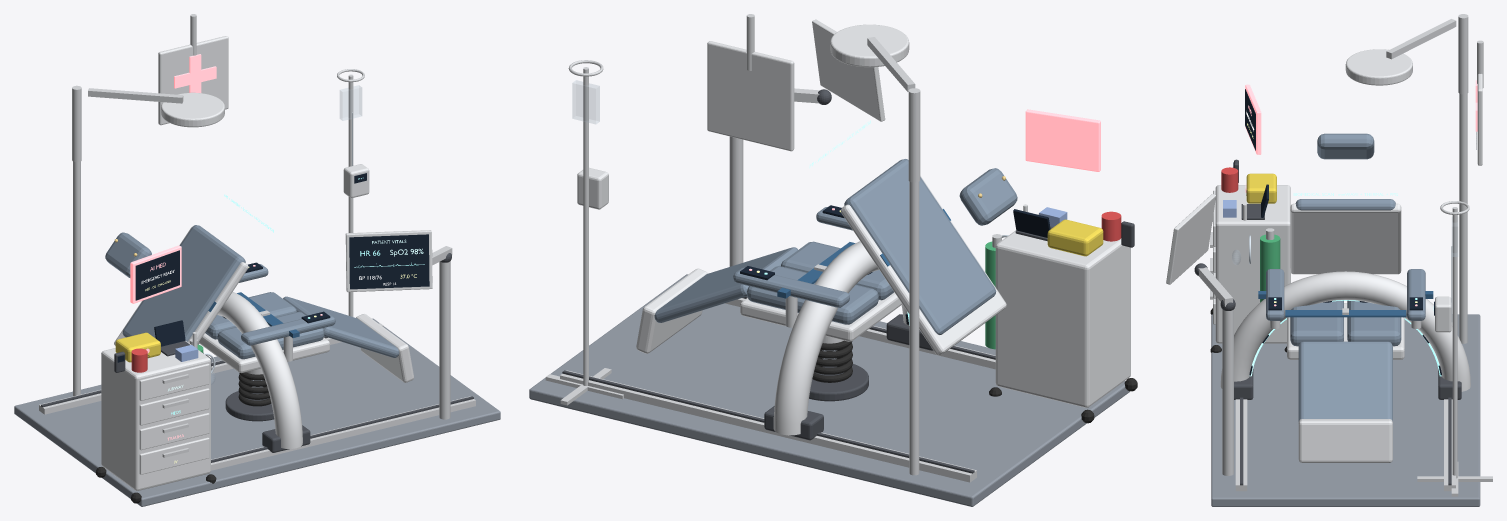
Rendered from medical_scanner.glb.
The picture shows the model from 3 angles, left to right: view 1: azimuth 30°, elevation 25°; view 2: azimuth 150°, elevation 25°; view 3: azimuth 270°, elevation 25°; orthographic projection. The views are drawn at different scales.
Visible parts, largest first — view 1: Base_Plate, Med_Cart, Backrest_Cushion, Vitals_Monitor_Panel, Scanner_Arch, Bay_Sign, Arch_Rail, Legrest, Monitor_Post, Light_Post, Exam_Light_Head, Emergency_Display_Panel (+24 smaller); view 2: Base_Plate, Med_Cart, Backrest_Cushion, Bay_Sign, Scanner_Arch, Arch_Rail.001, Emergency_Display_Bezel, Backrest_Shell, Vitals_Monitor_Bezel, Light_Post, Legrest, Exam_Light_Head (+20 smaller); view 3: Base_Plate, Legrest, Backrest_Shell, Scanner_Arch, Med_Cart, Footplate, Vitals_Monitor_Bezel, Light_Post, Monitor_Post, Exam_Light_Head, Seat_Cushion_R, Seat_Cushion_L (+21 smaller).
Boxes of the visible parts, x1,y1,x2,y2 form: Base_Plate: (14,318,500,506); Med_Cart: (101,340,210,490); Backrest_Cushion: (122,225,245,341); Vitals_Monitor_Panel: (349,234,429,289); Scanner_Arch: (197,292,302,448); Bay_Sign: (158,36,228,125); Arch_Rail: (211,396,475,470); Legrest: (283,296,399,357); Monitor_Post: (439,261,450,419); Light_Post: (73,161,80,396); Exam_Light_Head: (161,92,224,127); Emergency_Display_Panel: (135,250,179,300); Base_Plate: (529,274,1129,506); Med_Cart: (995,213,1130,407); Backrest_Cushion: (844,159,996,334); Bay_Sign: (707,41,794,151); Scanner_Arch: (773,241,908,435); Arch_Rail.001: (560,370,976,482); Emergency_Display_Bezel: (1025,109,1100,171); Backrest_Shell: (840,175,1006,355); Vitals_Monitor_Bezel: (812,19,885,121); Light_Post: (909,181,919,475); Legrest: (654,247,797,322); Exam_Light_Head: (830,24,909,67); Base_Plate: (1211,314,1480,506); Legrest: (1298,341,1392,421); Backrest_Shell: (1290,203,1401,274); Scanner_Arch: (1220,271,1470,391); Med_Cart: (1215,185,1290,343); Footplate: (1298,419,1392,462); Vitals_Monitor_Bezel: (1166,194,1215,284); Light_Post: (1459,93,1467,343); Monitor_Post: (1222,309,1233,475); Exam_Light_Head: (1345,49,1412,85); Seat_Cushion_R: (1347,300,1401,346); Seat_Cushion_L: (1290,300,1343,346).
Size of the model in its own units: 2.7 by 2.45 by 1.94.
